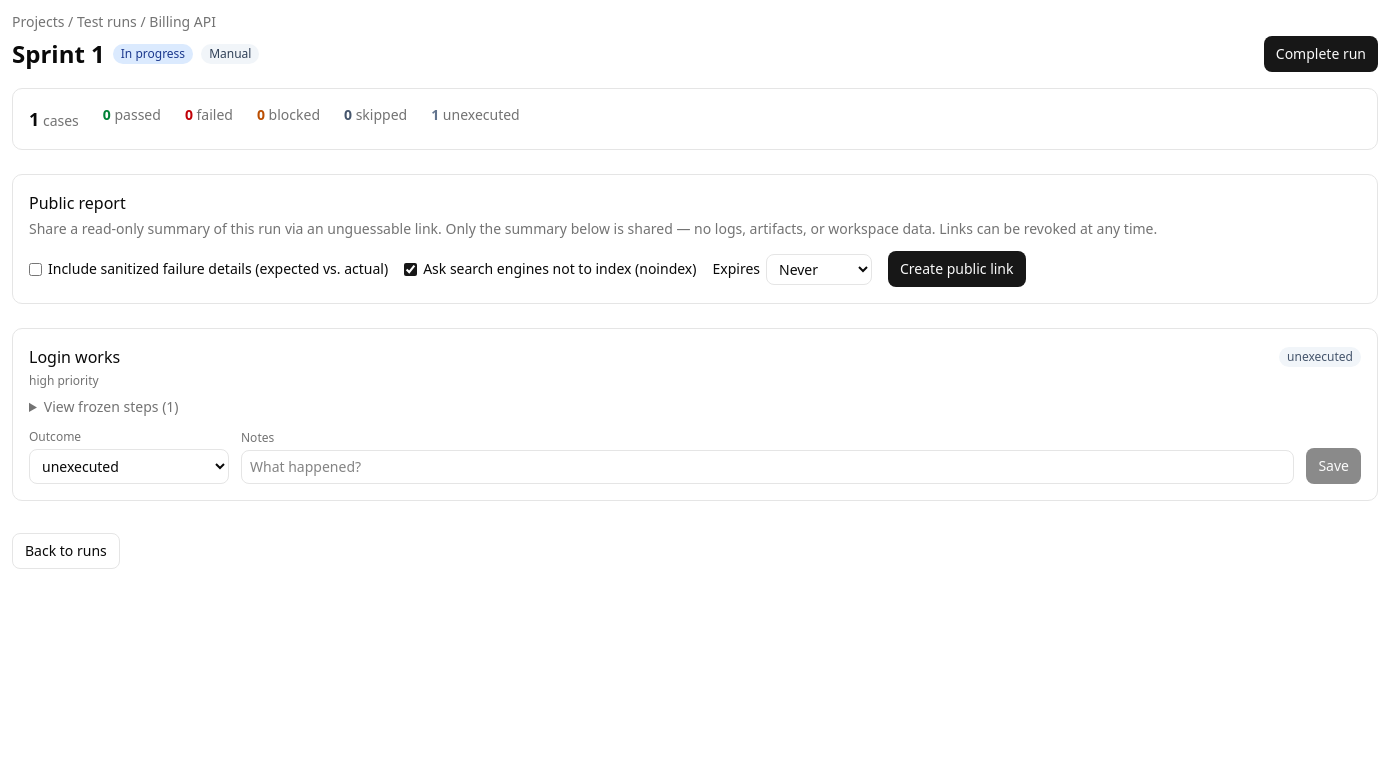
RunDetailManager › saves a result outcome with notes
The width and height of the screenshot is (1390, 780).
Select "pass" in the dropdown labelled "Outcome" at coordinates (129, 466), box [29, 449, 229, 484]
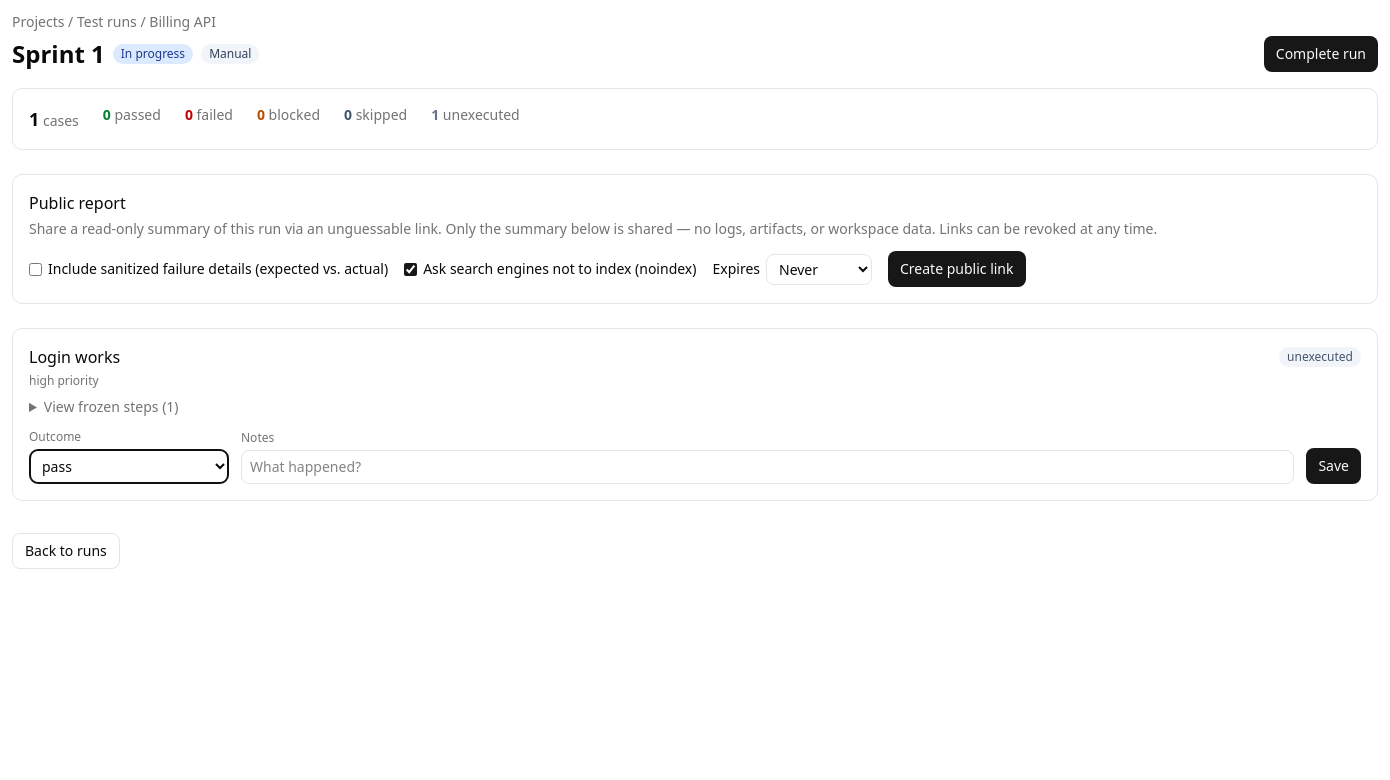
Type "Worked." into the field labelled "Notes" at coordinates (768, 467), box [241, 450, 1294, 484]
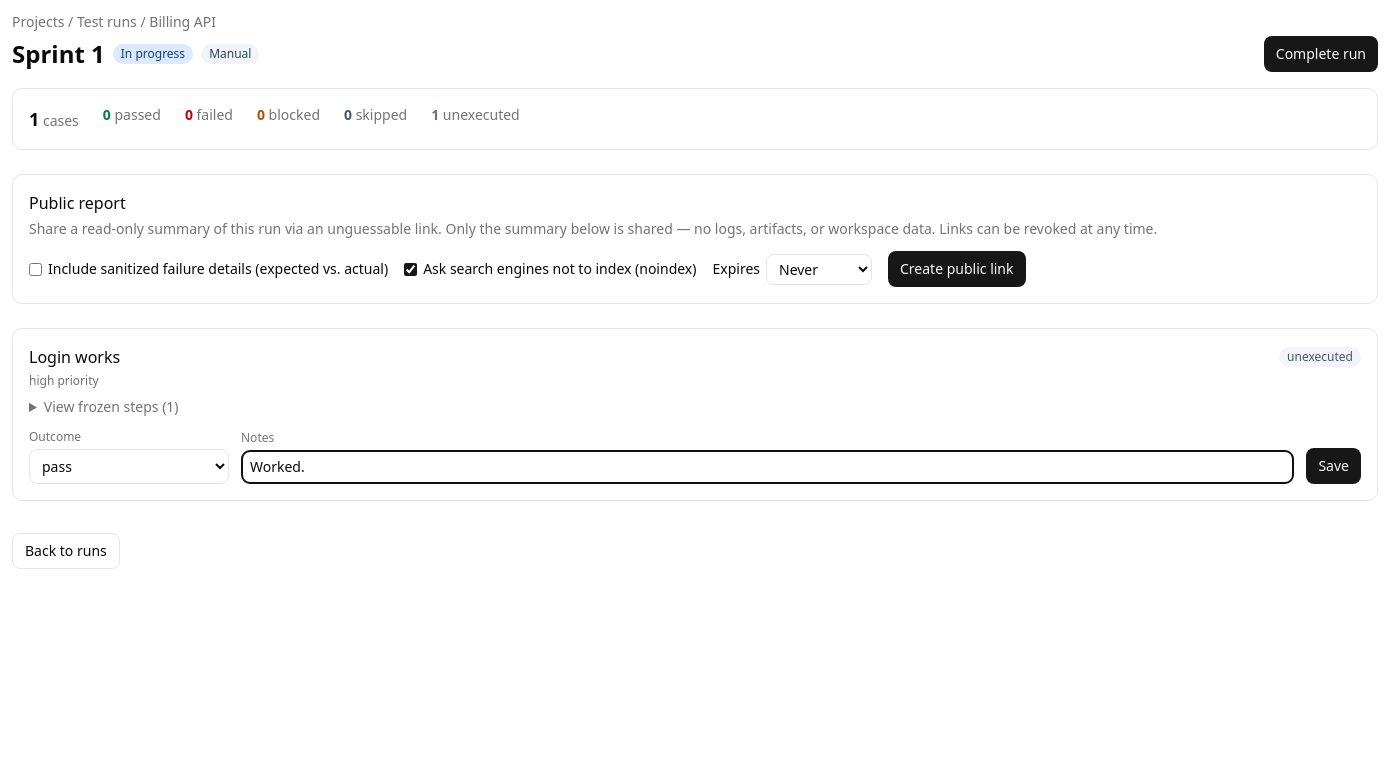
Click the button "Save" at coordinates (1334, 466), box [1306, 448, 1361, 484]
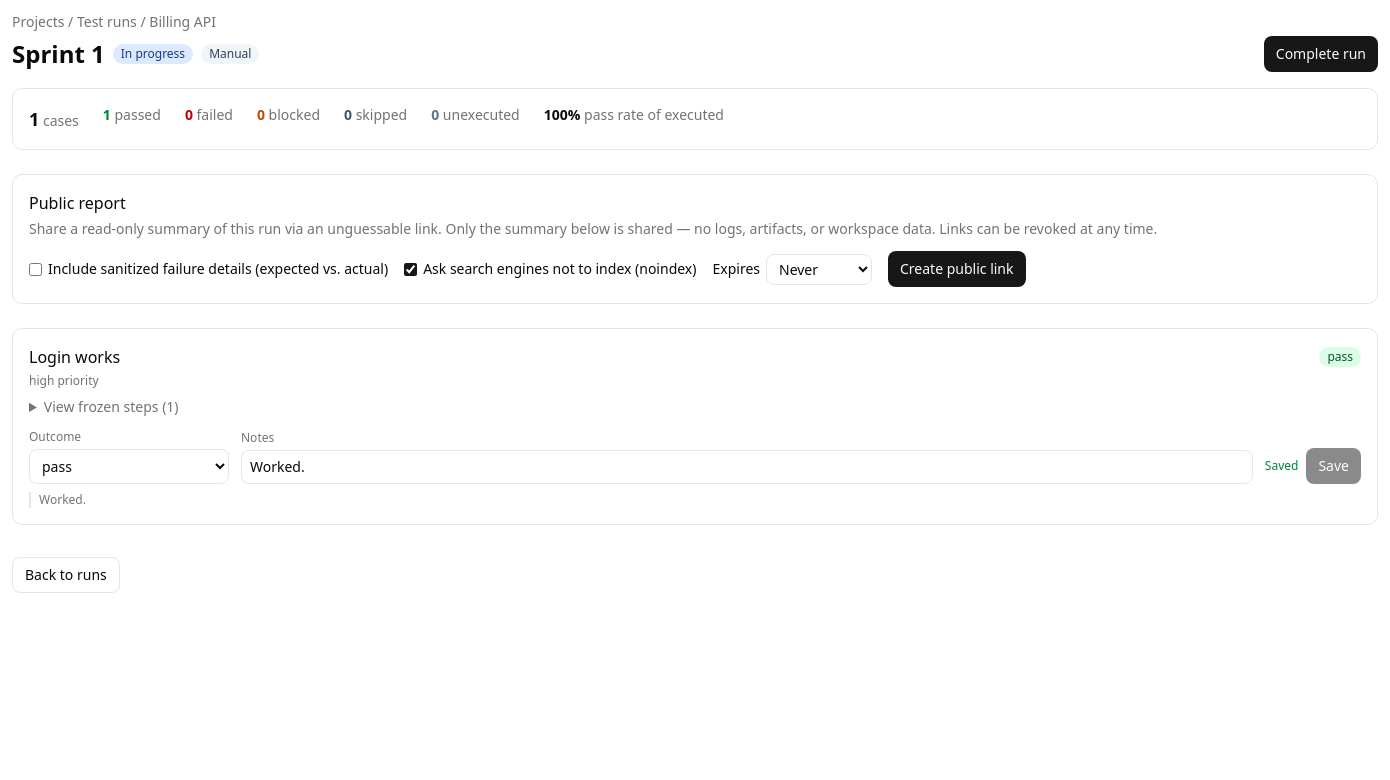
Expected: the text "Saved" is shown, [1265, 458, 1298, 474]
